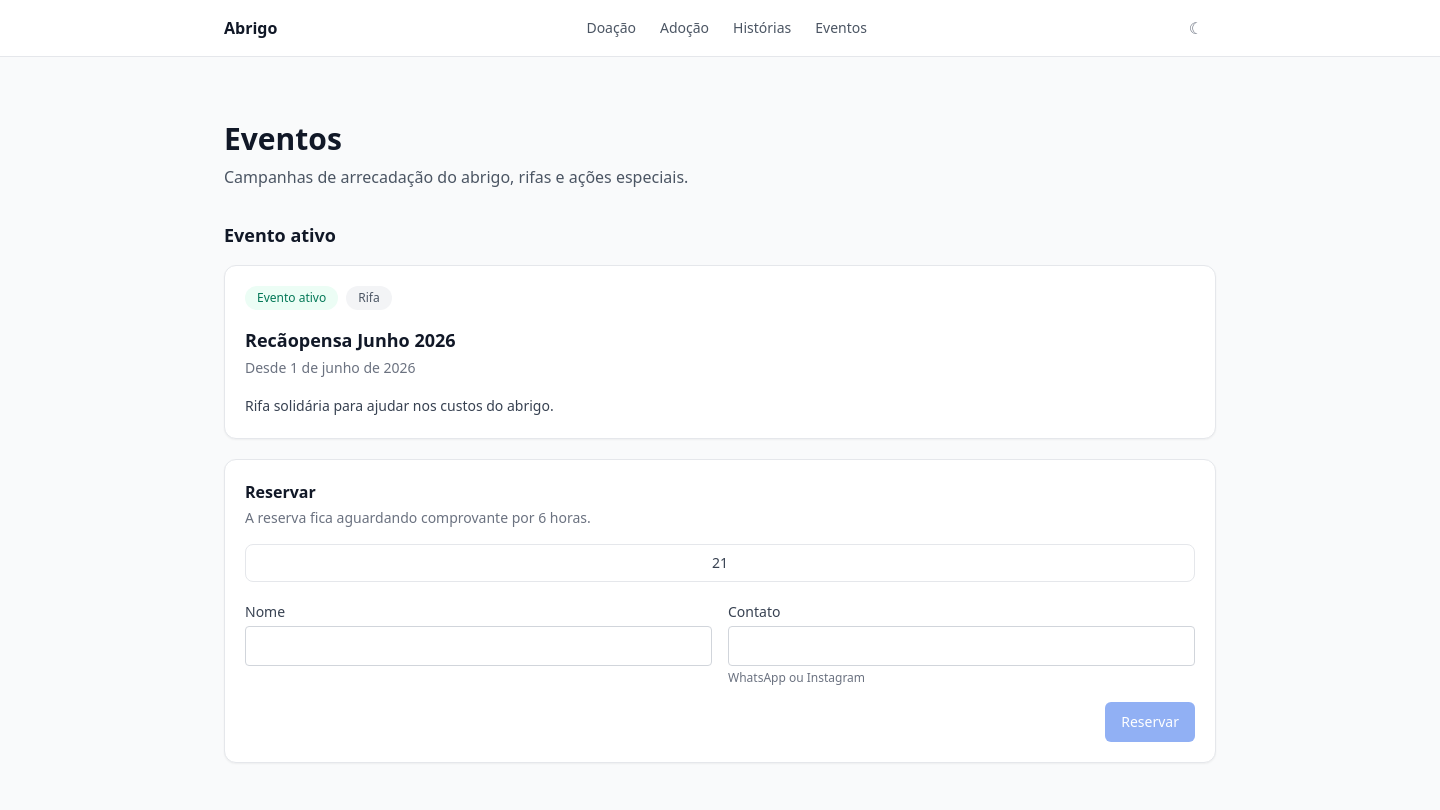
Test case: EventosPage › cria reserva pública e exibe instrução de PIX
Click the button "21". click: (720, 563)
box: [245,544,1195,582]
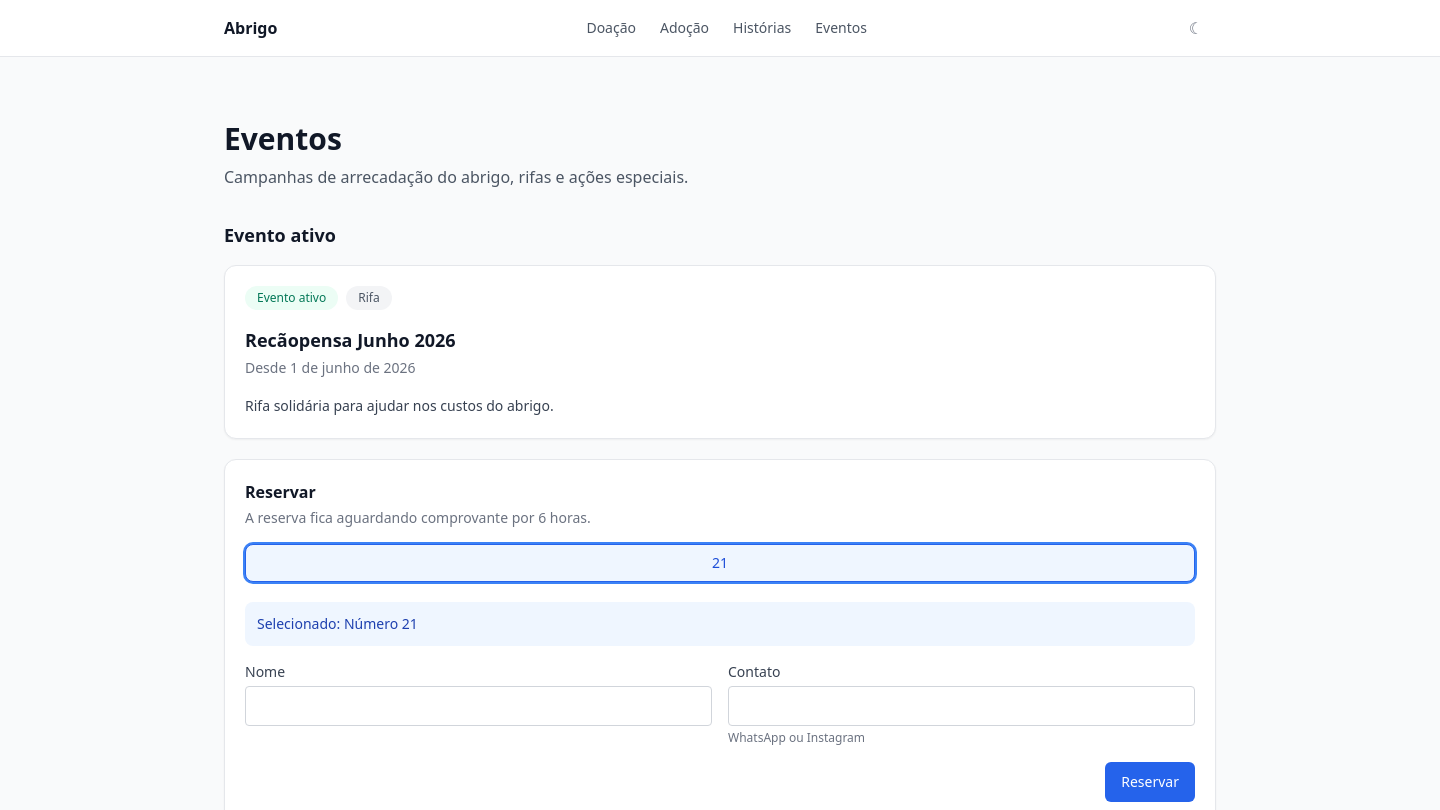
Type "Maria Silva" into the field labelled "Nome". click: (478, 706)
box: [245,686,712,726]
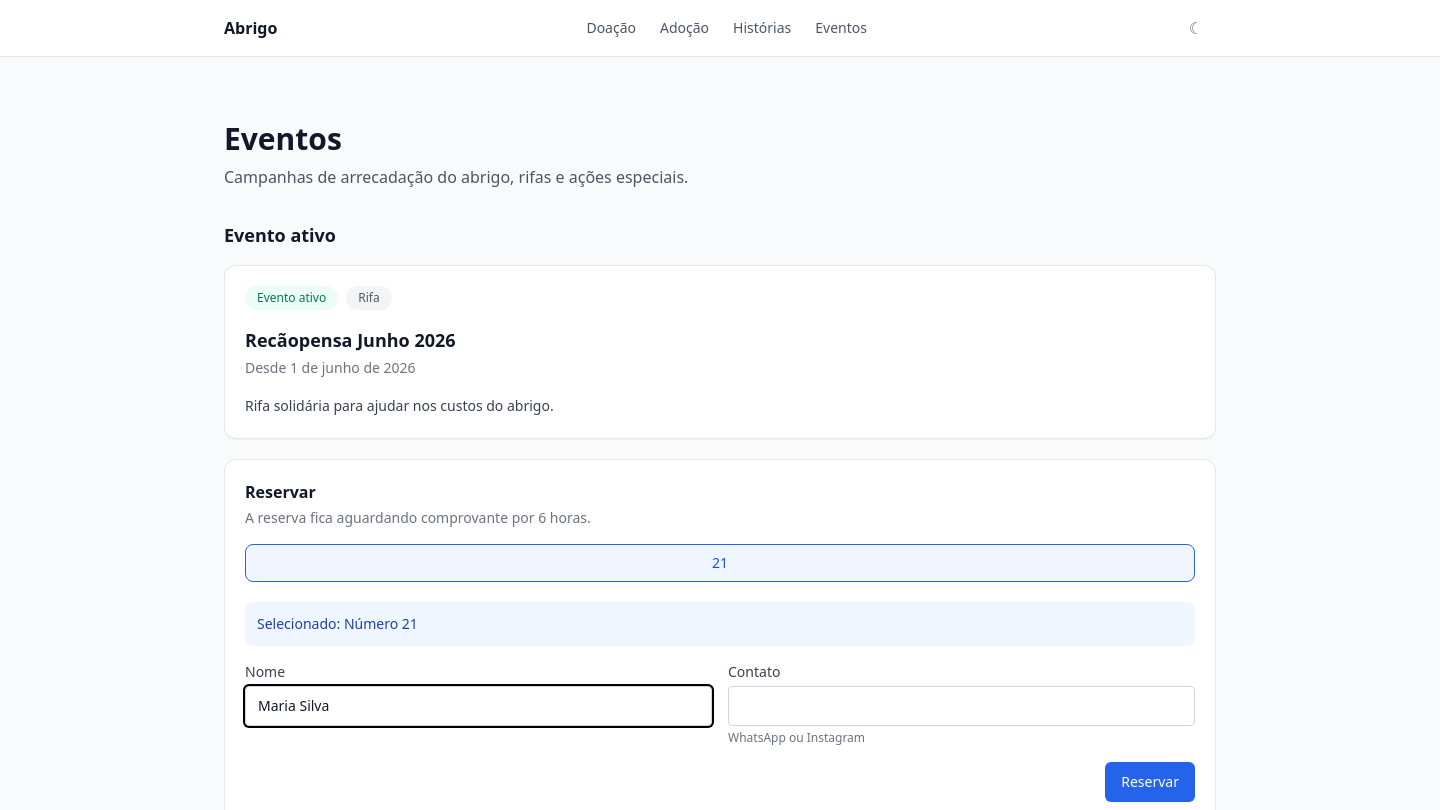
Type "@maria" into the field labelled "Contato". click: (962, 706)
box: [728,686,1195,726]
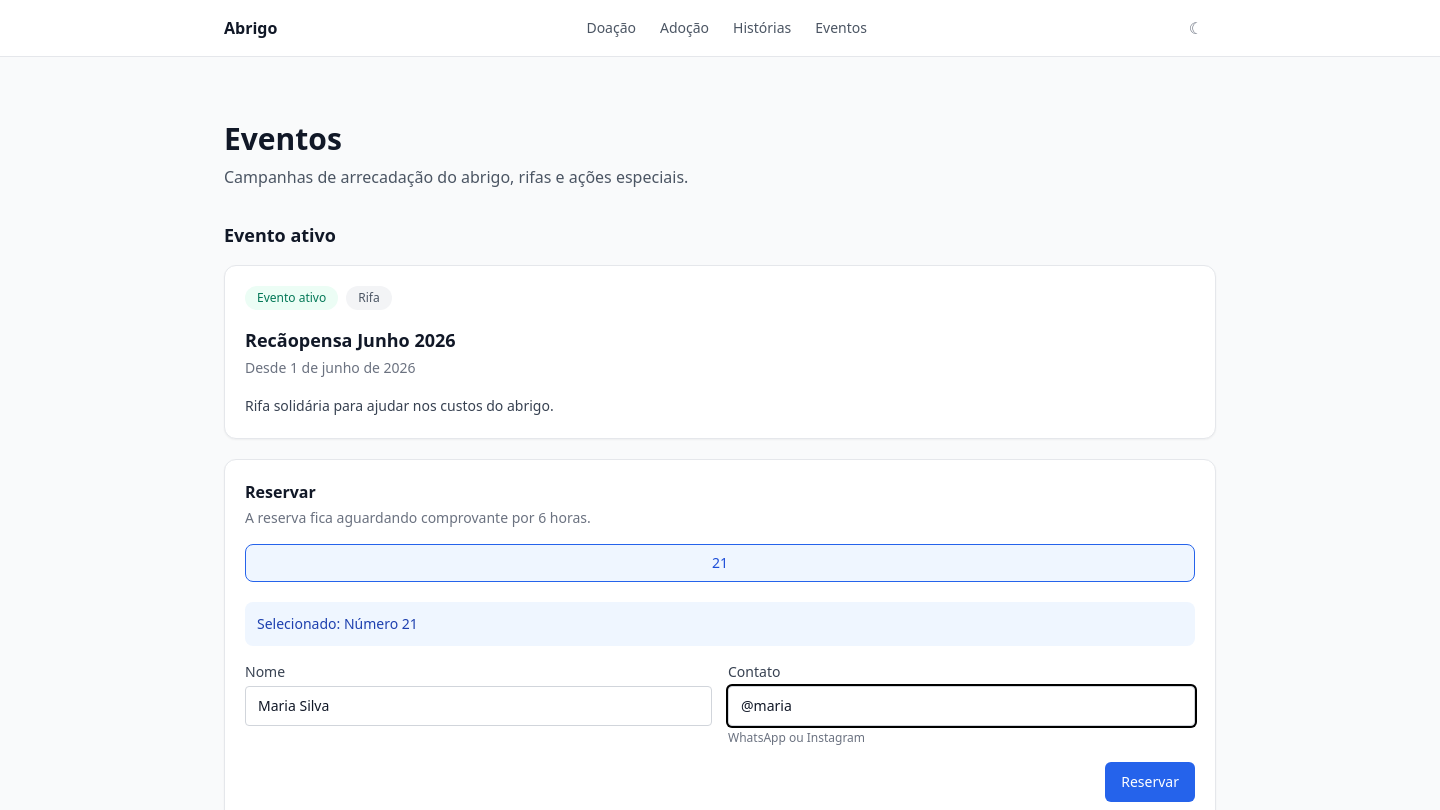
Click the button "Reservar". click: (1150, 782)
box: [1105,762,1195,802]
(page scrolled)
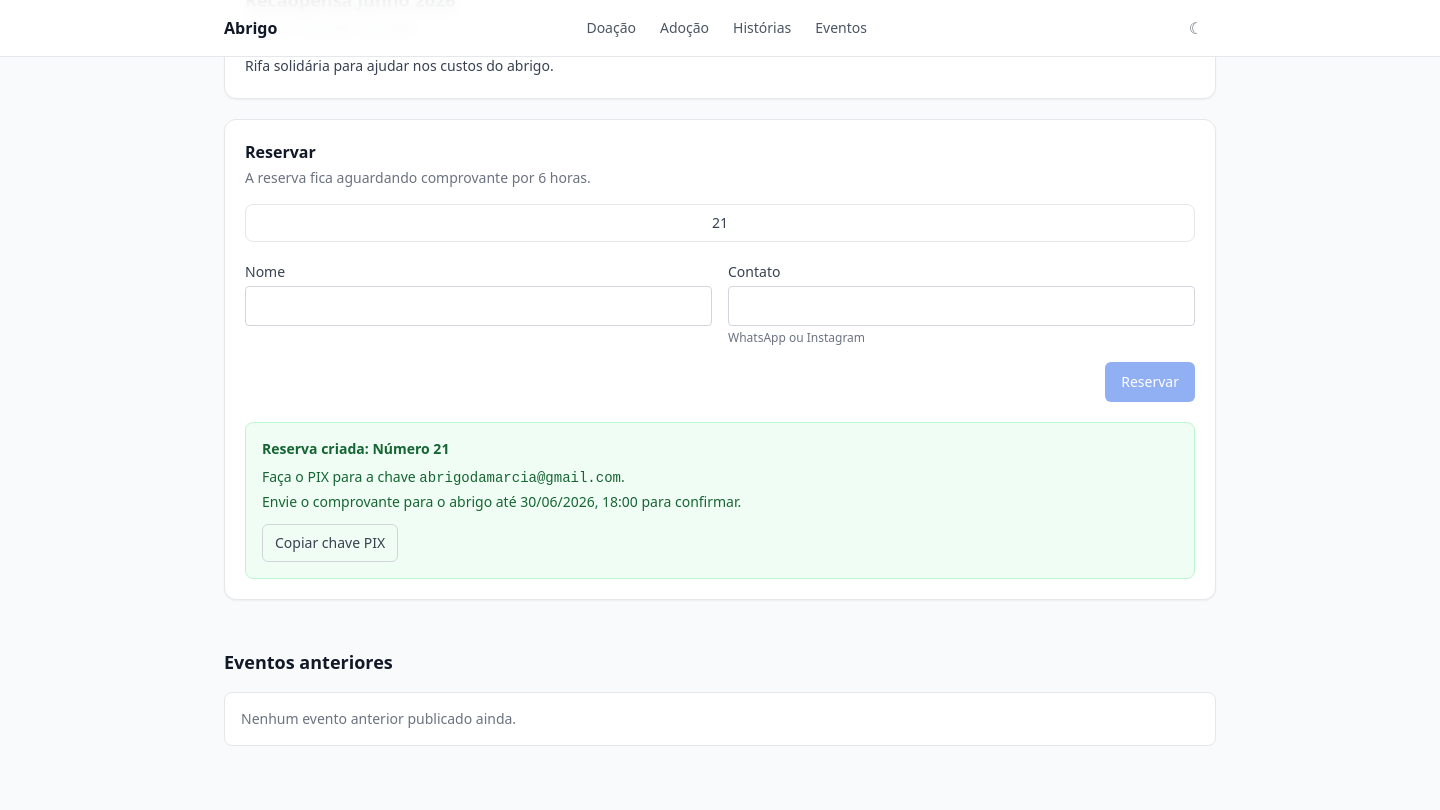
Check: the text "Reserva criada: Número 21" is shown, box [262,439,449,458]
Check: the text "abrigodamarcia@gmail.com" is shown, box [419,470,621,486]
Check: the text "Envie o comprovante" is shown, box [262,492,517,511]
